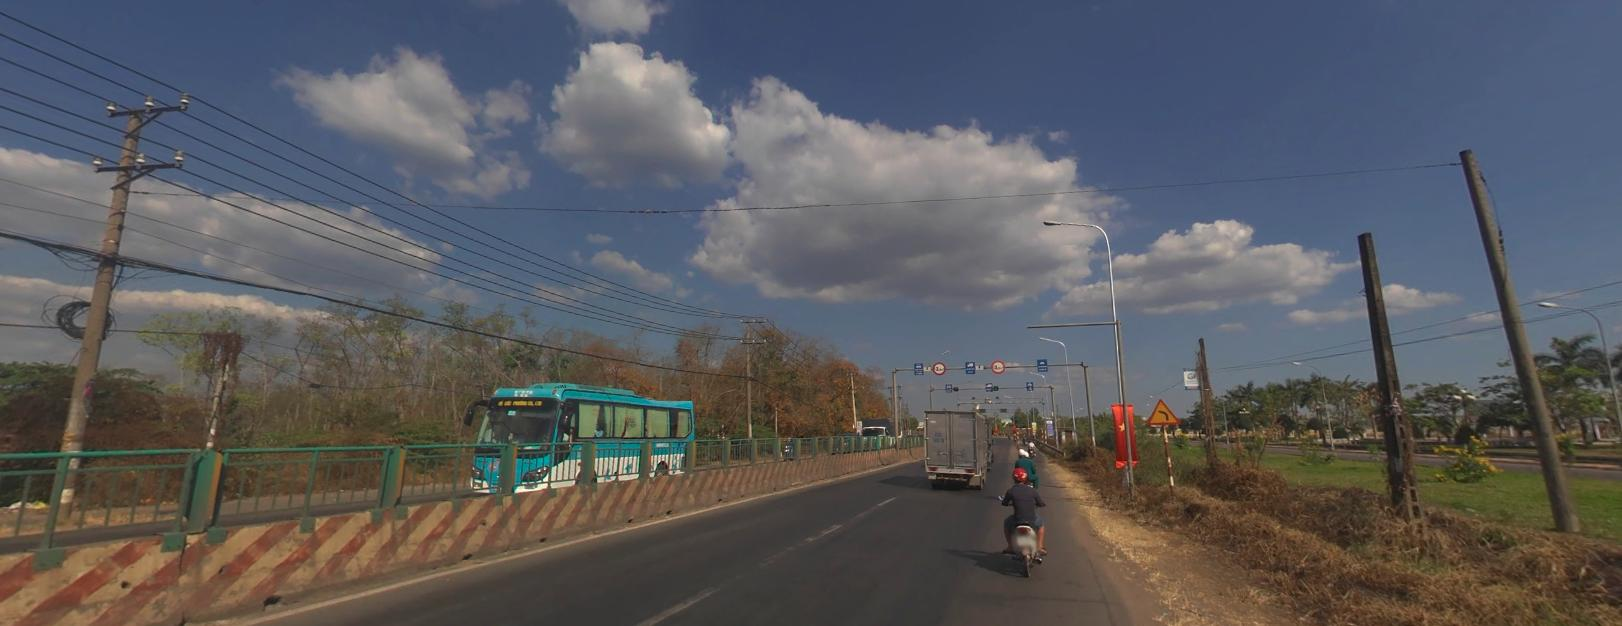Cam con lai: (990, 359, 1003, 372), (933, 361, 945, 373)
Nguy hiem: (1146, 397, 1179, 423)
